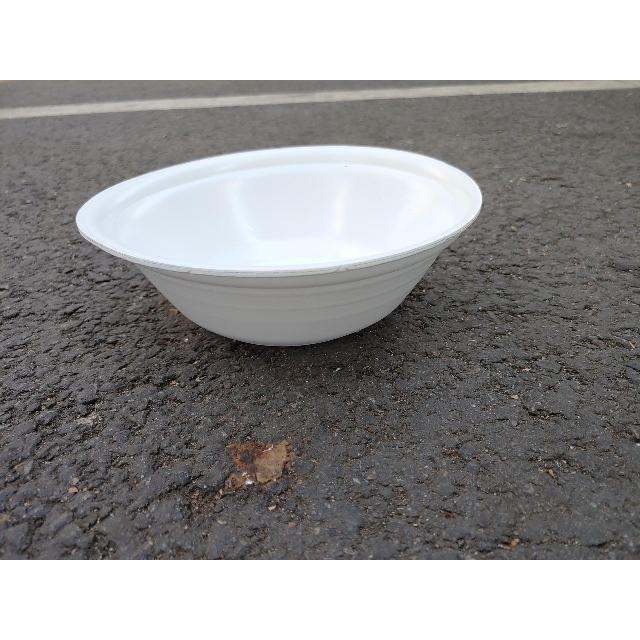Recipiente plastico: (80, 137, 490, 345)
